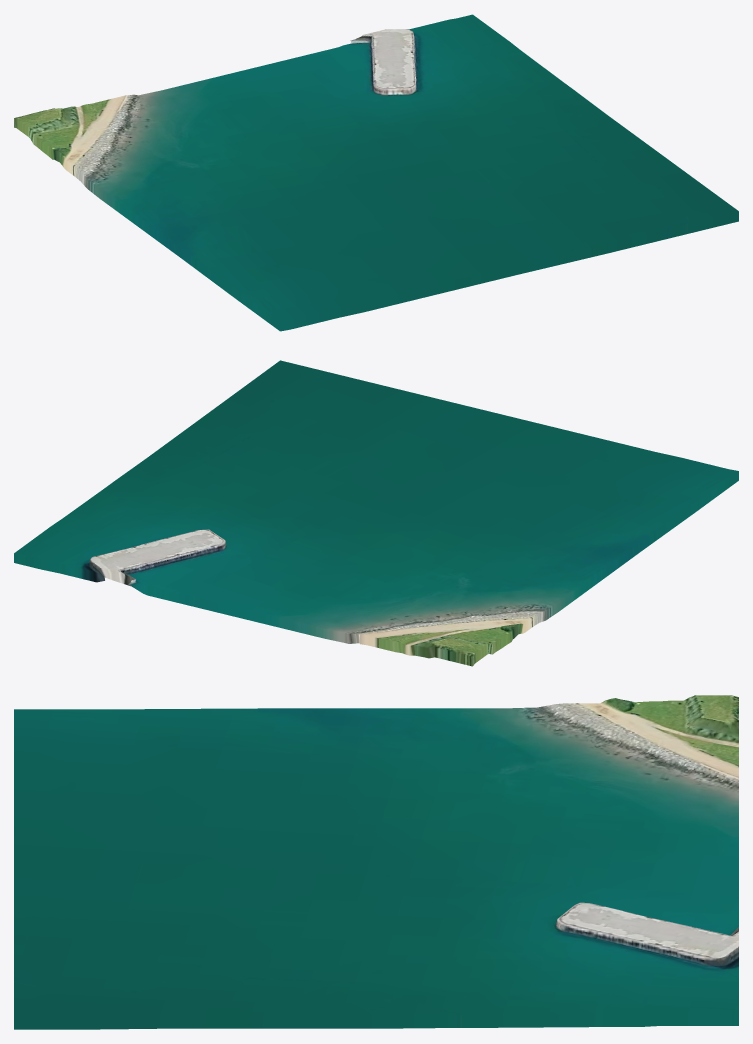
File: z17-20946-50646-h0-yup-uvflip-v3-world.glb
3 renders of one model, top to bottom at view 1: azimuth 30°, elevation 25°; view 2: azimuth 150°, elevation 25°; view 3: azimuth 270°, elevation 25°, orthographic. The views are drawn at different scales.
Bounding box in the file's own units: 241 × 11.2 × 243.
1 material, 1 textured.
